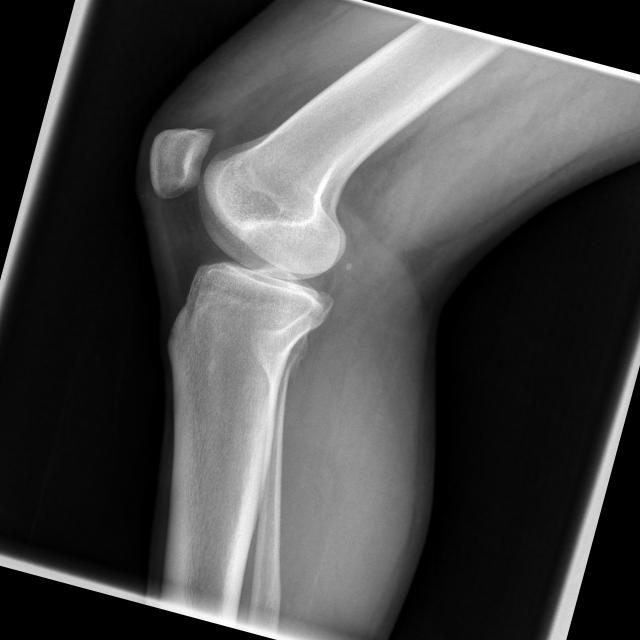Knee: (102, 116, 374, 382)
